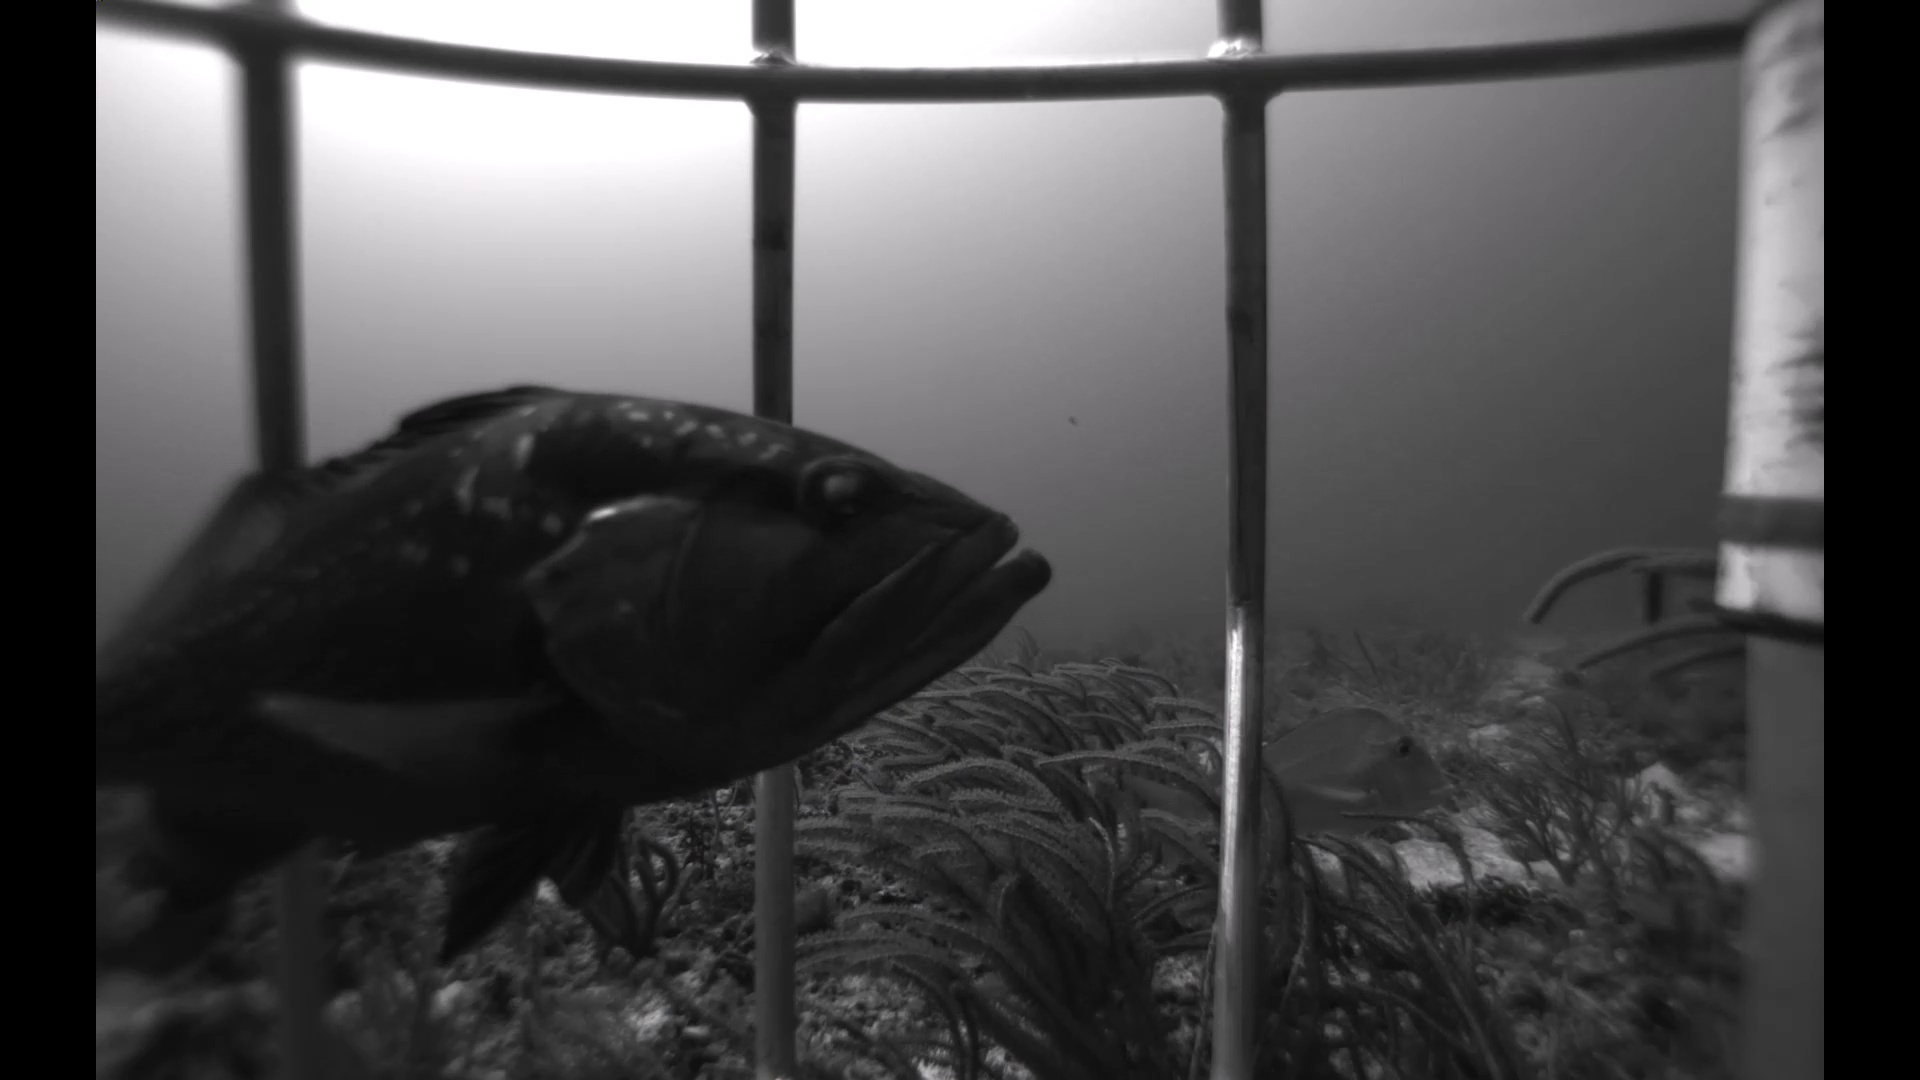CALAMUSNODOSUS-170210608: (1098, 694, 1473, 887)
EPINEPHELUSMORIO-170021211: (108, 367, 1080, 981)
